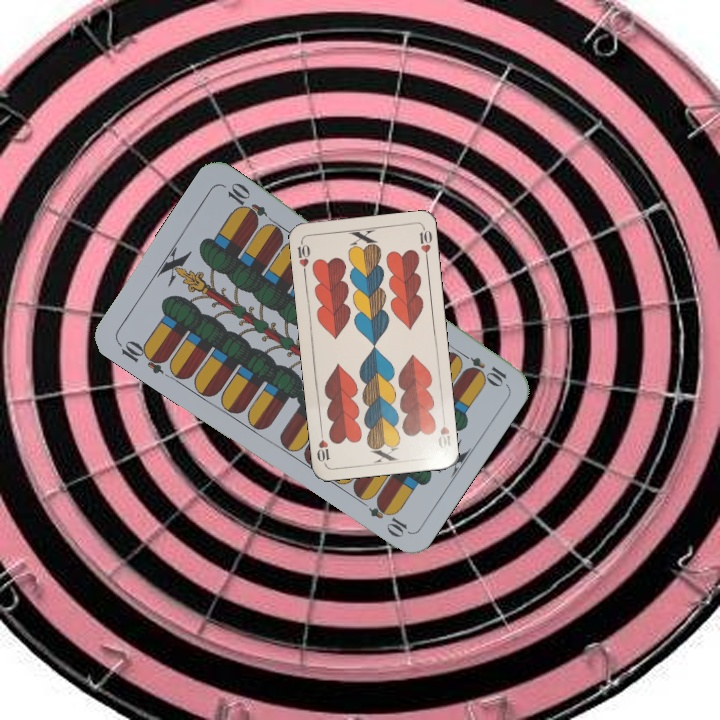E10: (113, 335, 170, 377), (454, 347, 510, 387)
H10: (293, 237, 313, 278), (434, 412, 453, 451)
